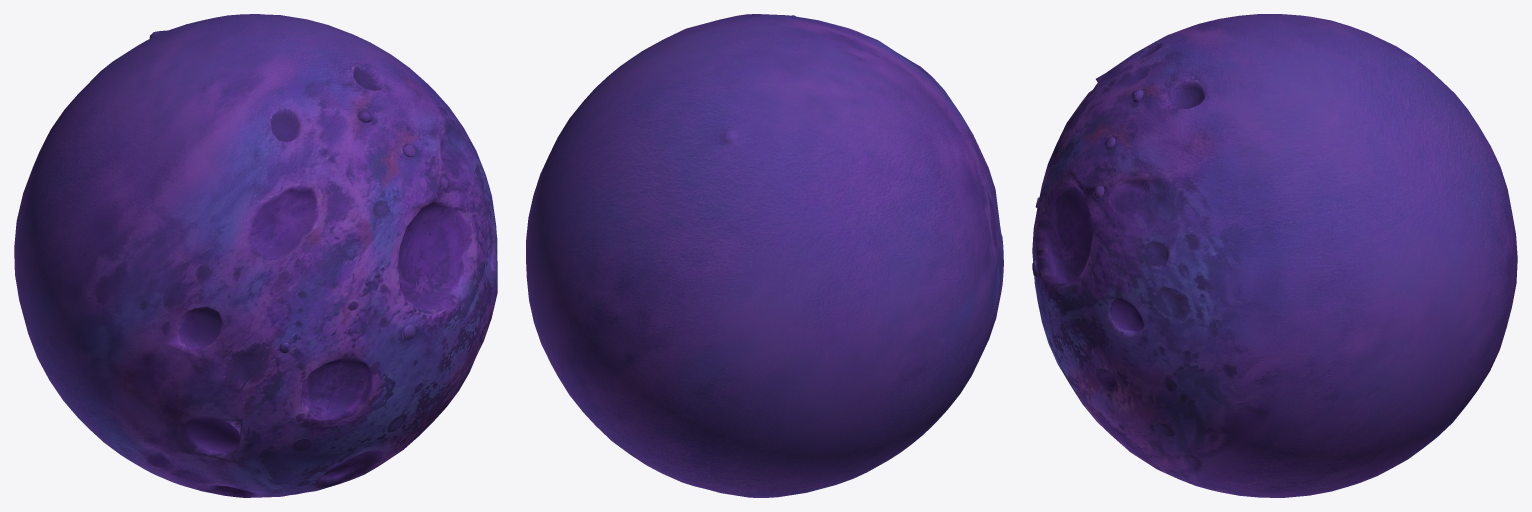
The model's file is purple_moon.glb.
3 views of the same model, side by side, from view 1: azimuth 30°, elevation 25°; view 2: azimuth 150°, elevation 25°; view 3: azimuth 270°, elevation 25° (orthographic).
Visible parts, largest first — view 1: tripo_node_6633d6cc-ae13-4b6b-9f3c-505ab8fa5168; view 2: tripo_node_6633d6cc-ae13-4b6b-9f3c-505ab8fa5168; view 3: tripo_node_6633d6cc-ae13-4b6b-9f3c-505ab8fa5168.
Boxes of the visible parts, bbox=[...] form: tripo_node_6633d6cc-ae13-4b6b-9f3c-505ab8fa5168: bbox=[14, 14, 497, 497]; tripo_node_6633d6cc-ae13-4b6b-9f3c-505ab8fa5168: bbox=[526, 14, 1003, 497]; tripo_node_6633d6cc-ae13-4b6b-9f3c-505ab8fa5168: bbox=[1032, 14, 1517, 497].
Size of the model in its own units: 0.9995 by 0.9985 by 0.9995.
1 material, 1 textured.
